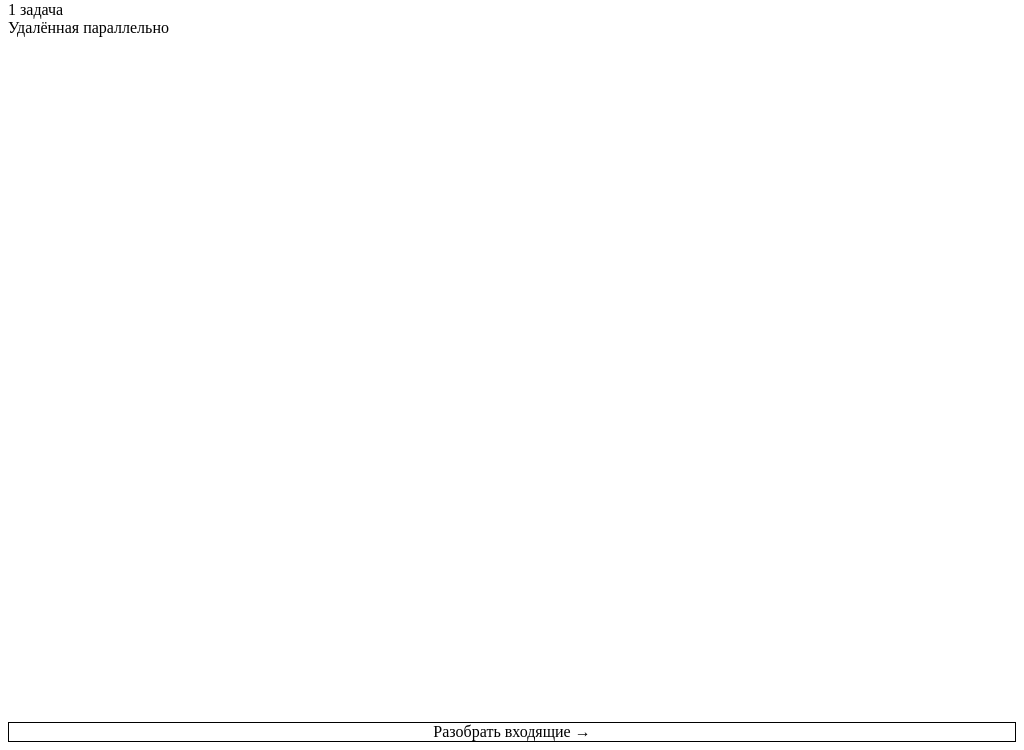
it: Inbox — действия карточки › провалившаяся команда (`not_found`) показывает ошибку и не трогает список молча
The image size is (1024, 750).
(page scrolled)
Expected: the text "Удалённая параллельно" is shown, [8,19,169,37]
Click the button "Разобрать входящие →" at (512, 732), box [8,722,1016,742]
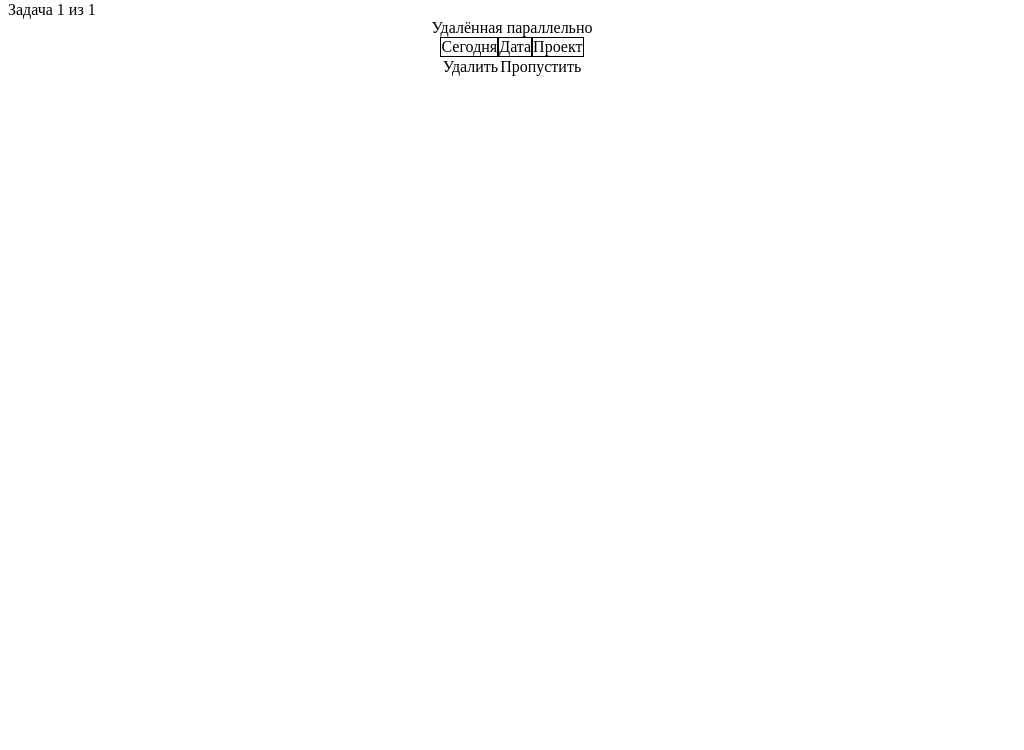
Click the button "Сегодня" at (469, 47), box [440,37,498,57]
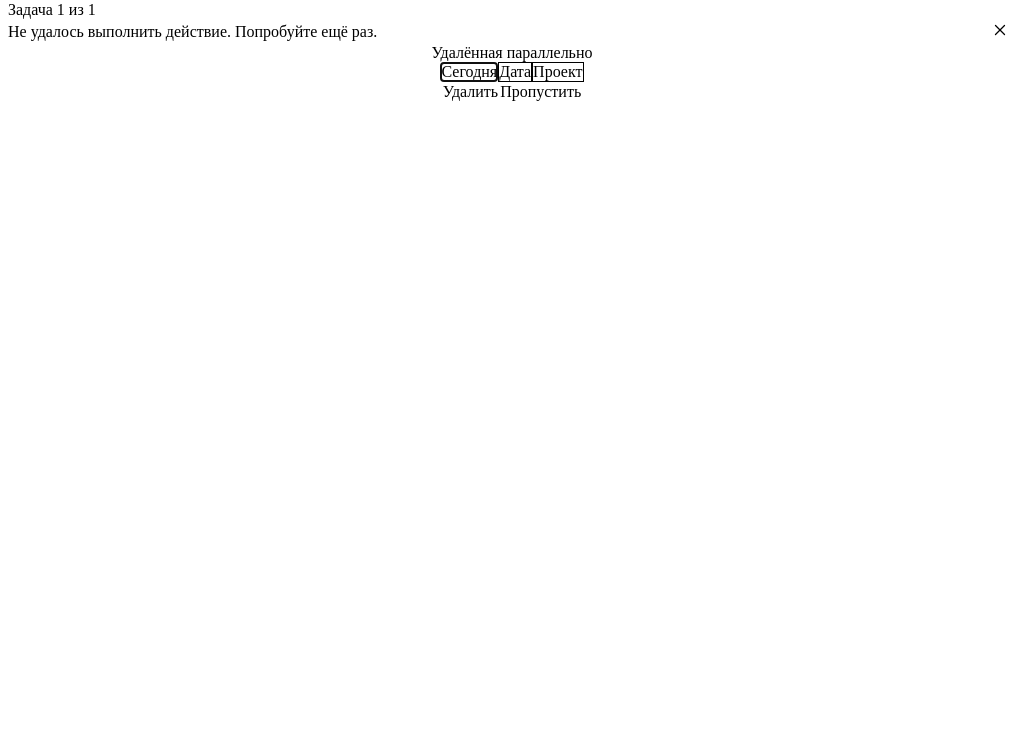
Expected: the text "Удалённая параллельно" is shown, [432,44,592,61]
Expected: the text "Не удалось выполнить действие. Попробуйте ещё раз." is shown, [8,22,377,40]
Expected: the message "Не удалось выполнить действие. Попробуйте ещё раз." is shown, [8,19,1016,44]
